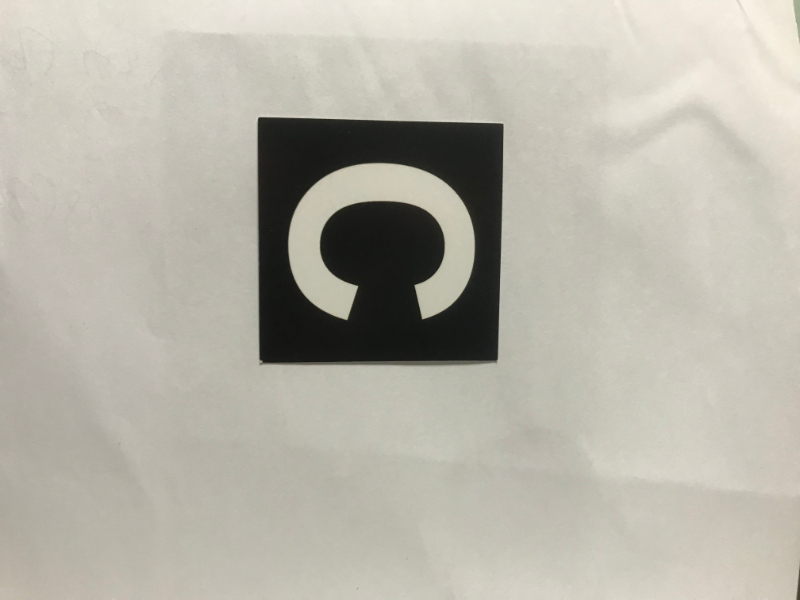C-13: (262, 123, 497, 358)
